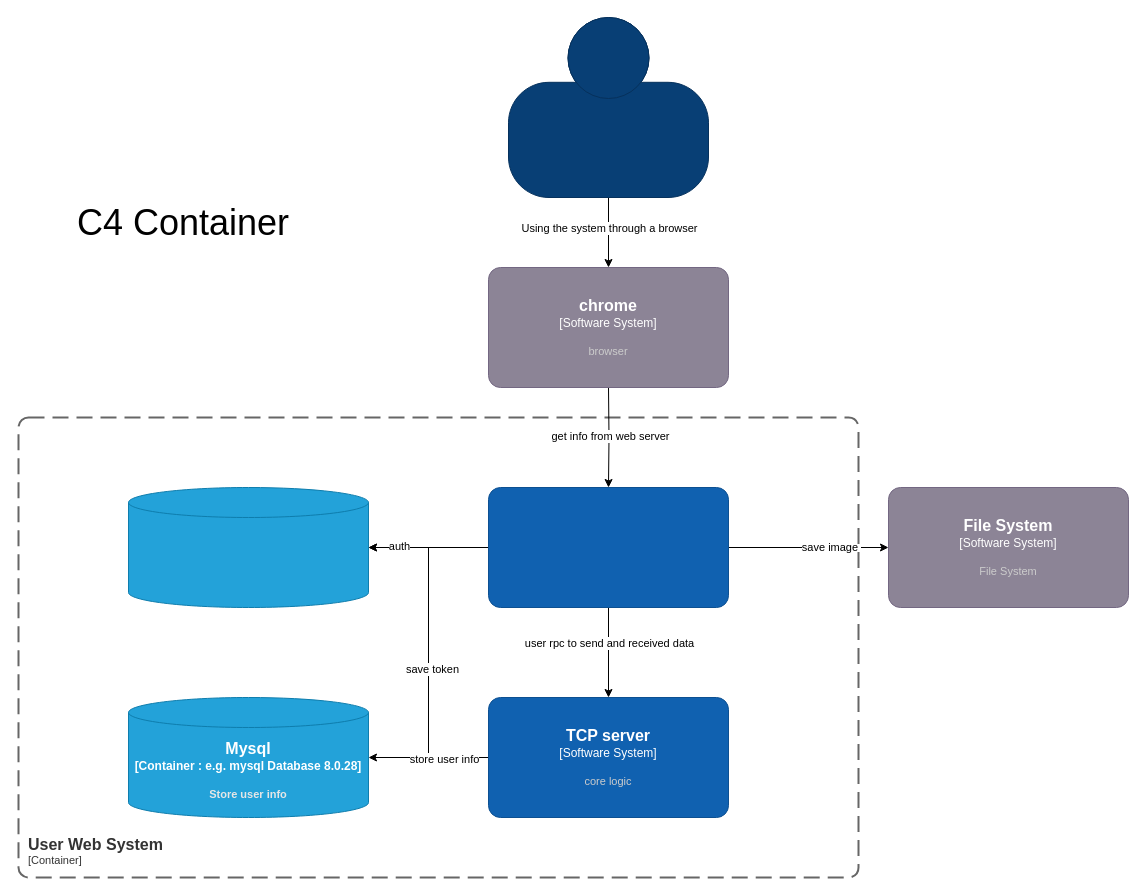
The diagram is 1146 pixels wide and 896 high, and some of its shapes have lost their labels. The box of each missing label's shape, as (x1, y1, x2, y2) in pixels:
Redis [Container : e.g. redis 6.2.6] Store user info: (128, 486, 368, 608)
User [Person] normal user: (508, 16, 708, 198)
web Server [Software System] like a proxy: (488, 486, 728, 608)
